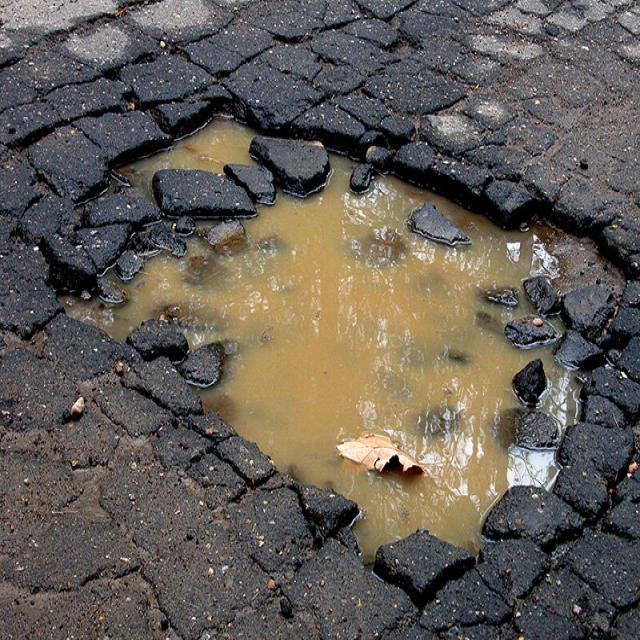pothole: (40, 83, 581, 640)
